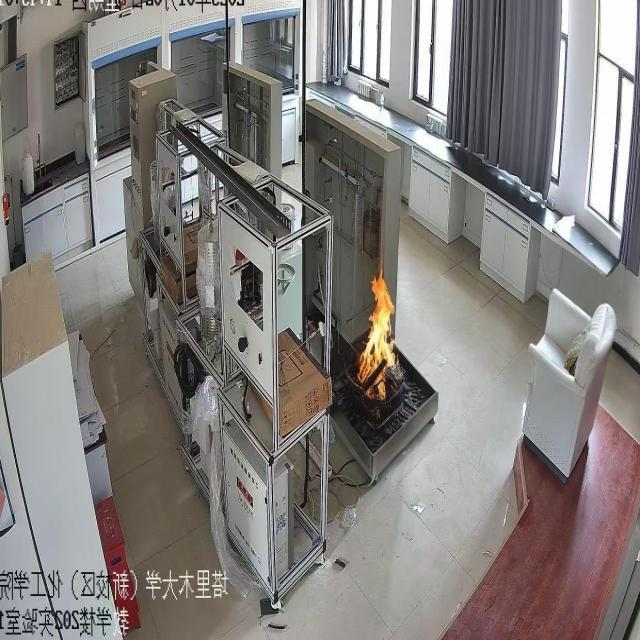smoke: (354, 257, 398, 390)
